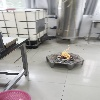fire: (59, 44, 71, 59)
